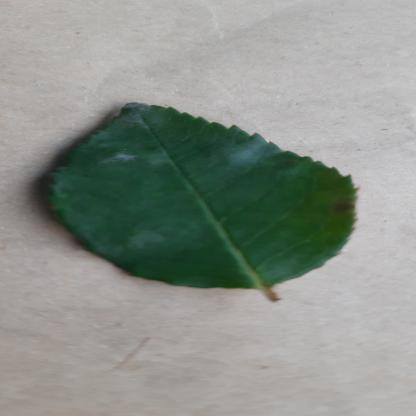powdery-mildew: (40, 98, 366, 291)
